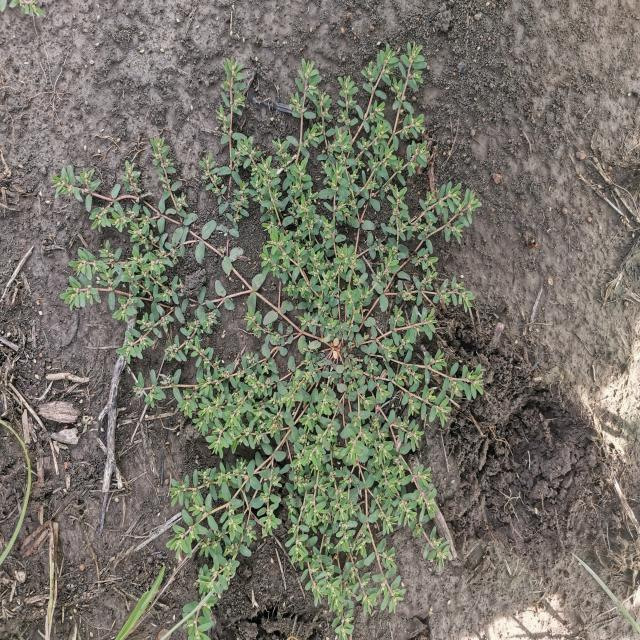SpottedSpurge: (46, 39, 486, 636)
